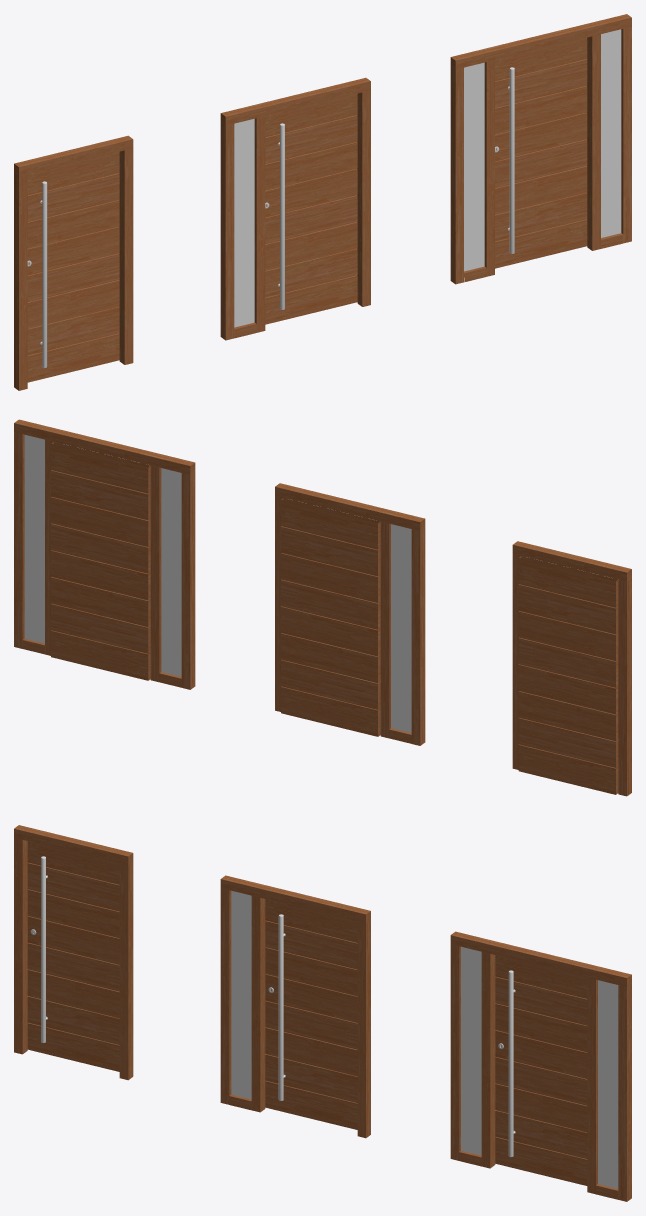
Rendered from PuertaModerna3.fbx.
3 renders of one model, top to bottom at view 1: azimuth 30°, elevation 25°; view 2: azimuth 150°, elevation 25°; view 3: azimuth 330°, elevation 25°, orthographic.
Parts seen in each view (by area): view 1: Marco 182x220, Puerta 150x220, Puerta 118x220, Puerta 182x220, Marco150x220, Marco 118x220; view 2: Puerta 118x220, Puerta 182x220, Puerta 150x220, Marco 182x220, Marco150x220, Marco 118x220; view 3: Marco 182x220, Puerta 118x220, Puerta 150x220, Puerta 182x220, Marco150x220, Marco 118x220.
Boxes of the visible parts, x1,y1,x2,y2 form: Marco 182x220: (450,14,631,284); Puerta 150x220: (265,93,357,324); Puerta 118x220: (27,151,119,382); Puerta 182x220: (495,37,587,268); Marco150x220: (220,77,370,340); Marco 118x220: (14,135,133,390); Puerta 118x220: (518,556,618,794); Puerta 182x220: (51,442,150,680); Puerta 150x220: (281,498,380,736); Marco 182x220: (14,419,195,689); Marco150x220: (275,483,425,745); Marco 118x220: (512,541,631,796); Marco 182x220: (450,931,631,1201); Puerta 118x220: (27,841,119,1071); Puerta 150x220: (265,899,357,1129); Puerta 182x220: (495,955,587,1185); Marco150x220: (220,875,370,1138); Marco 118x220: (14,825,133,1080).
Bounding box in the file's own units: 631 × 220 × 13.41.
